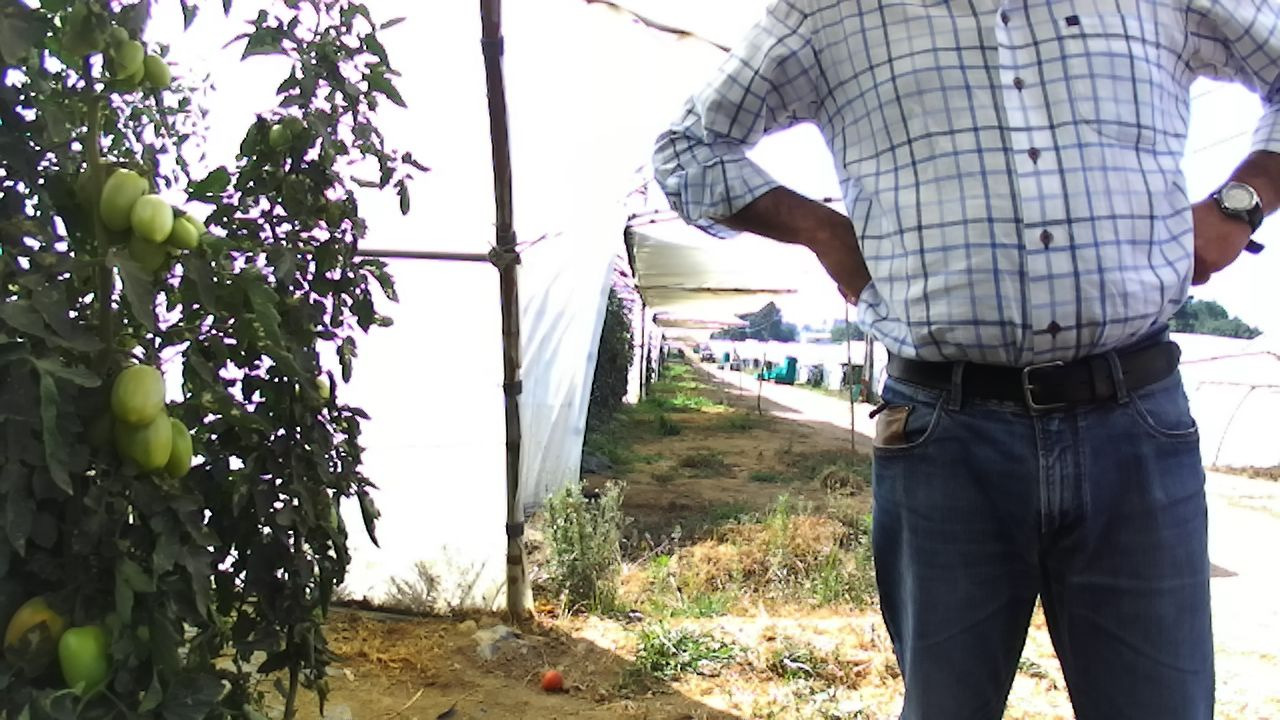tomato: (0, 586, 80, 673), (108, 358, 169, 431), (108, 410, 173, 475), (56, 620, 110, 698), (94, 165, 152, 233), (129, 190, 175, 248), (108, 37, 149, 83), (140, 52, 179, 91), (165, 211, 200, 253)
